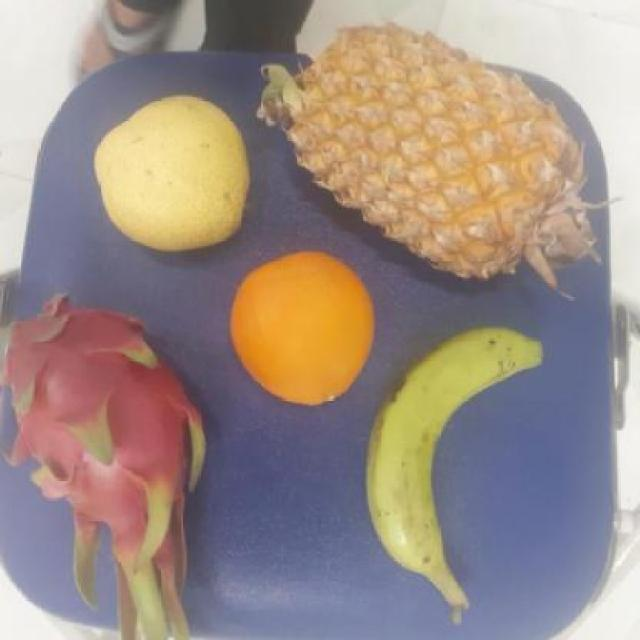banana: (365, 336, 529, 595)
dragon fruit: (0, 284, 215, 607)
oren: (230, 253, 378, 409)
pear: (92, 92, 255, 255)
pineapple: (280, 28, 602, 284)
